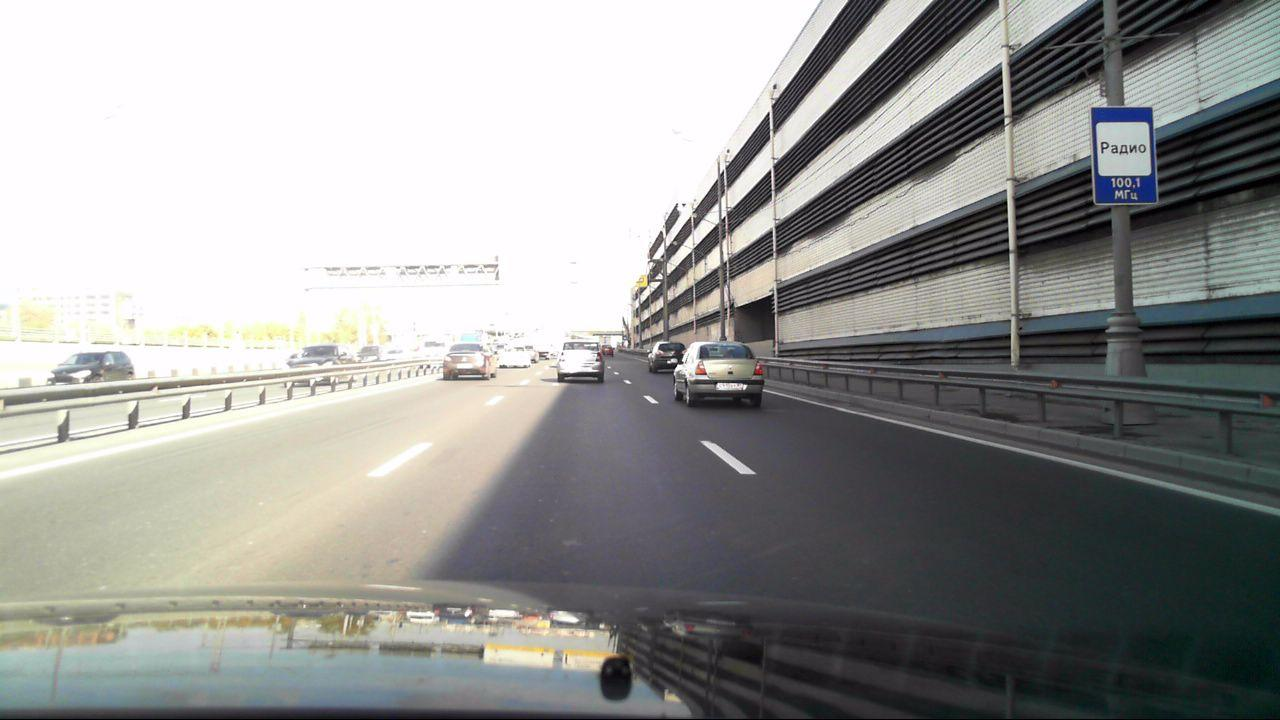7_15: (1092, 107, 1156, 204)
